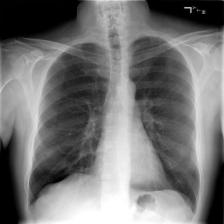normal: (24, 30, 204, 215)
